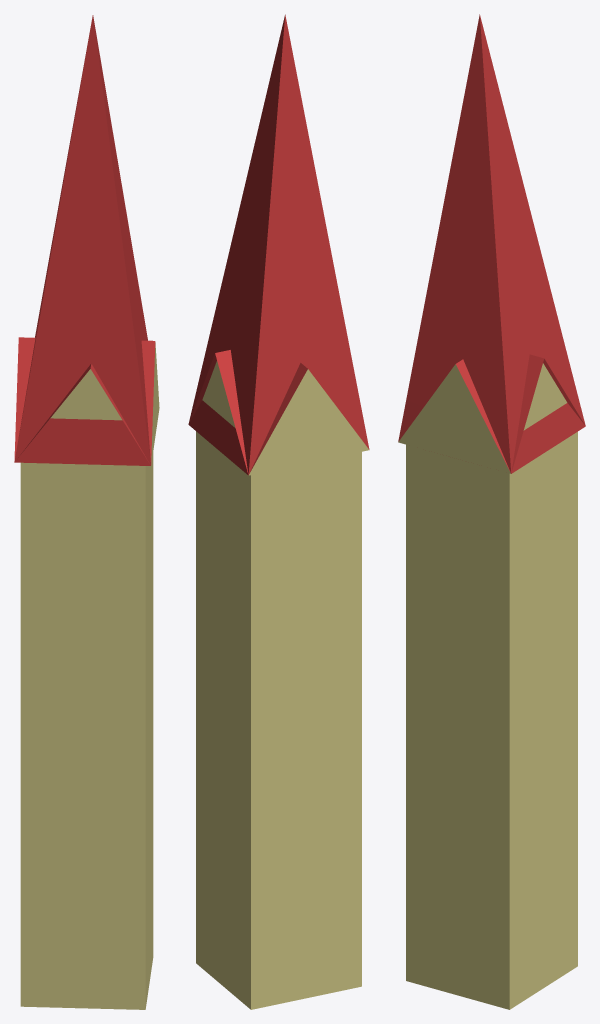
3 views of the same model, side by side, from view 1: azimuth 30°, elevation 25°; view 2: azimuth 150°, elevation 25°; view 3: azimuth 270°, elevation 25° (orthographic).
Bounding box in the file's own units: 8.13 × 8.14 × 45.9.
